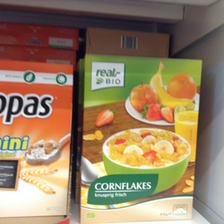cereal: (80, 54, 204, 224), (1, 59, 76, 217)
